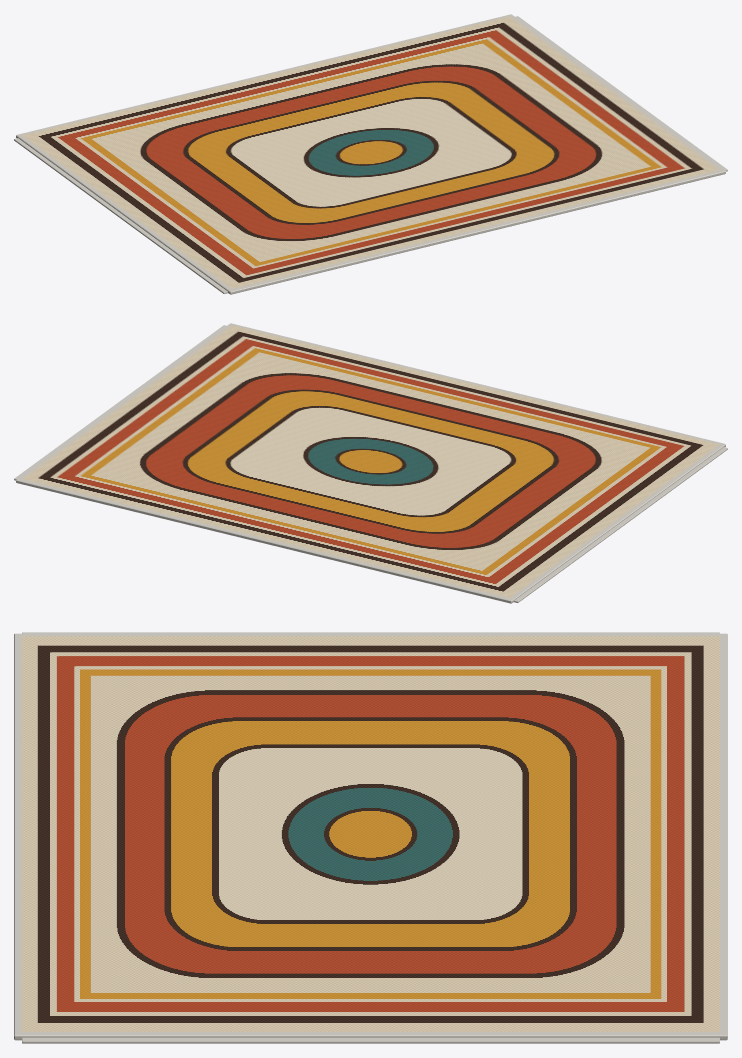
Rendered from area_rug.glb.
3 views of the same model, one above another, from view 1: azimuth 30°, elevation 25°; view 2: azimuth 150°, elevation 25°; view 3: azimuth 270°, elevation 25° (orthographic). The views are drawn at different scales.
Visible parts, largest first — view 1: Rug_WovenPatternTop, Rug_BorderAndFringe; view 2: Rug_WovenPatternTop, Rug_BorderAndFringe; view 3: Rug_WovenPatternTop, Rug_BorderAndFringe.
Boxes of the visible parts, x1=… form: Rug_WovenPatternTop: x1=22, y1=16, x2=719, y2=288; Rug_BorderAndFringe: x1=14, y1=14, x2=727, y2=294; Rug_WovenPatternTop: x1=22, y1=325, x2=719, y2=597; Rug_BorderAndFringe: x1=14, y1=323, x2=727, y2=603; Rug_WovenPatternTop: x1=22, y1=636, x2=719, y2=1031; Rug_BorderAndFringe: x1=14, y1=632, x2=727, y2=1043.
Bounding box in the file's own units: 2.44 × 0.015 × 1.8.
Materials: 2 (1 with a texture image).
